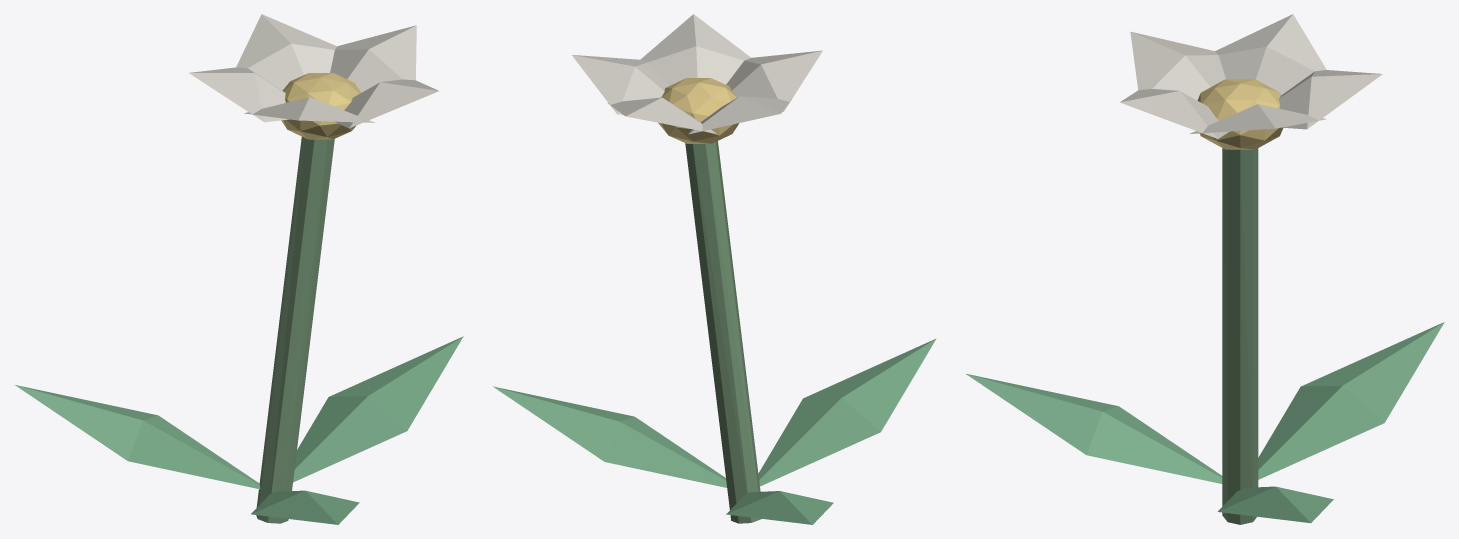
File: orchid_white.glb
3 views of the same model, side by side, from view 1: azimuth 30°, elevation 25°; view 2: azimuth 150°, elevation 25°; view 3: azimuth 270°, elevation 25° (orthographic). The views are drawn at different scales.
Parts seen in each view (by area): view 1: orchid_stem, orchid_leaf_0, orchid_leaf_1, orchid_petal_1, orchid_petal_0, orchid_center, orchid_petal_2, orchid_leaf_2, orchid_petal_4, orchid_petal_3; view 2: orchid_stem, orchid_leaf_2, orchid_leaf_0, orchid_petal_4, orchid_petal_3, orchid_petal_0, orchid_center, orchid_leaf_1, orchid_petal_2, orchid_petal_1; view 3: orchid_stem, orchid_leaf_1, orchid_leaf_2, orchid_petal_2, orchid_petal_3, orchid_center, orchid_petal_1, orchid_leaf_0, orchid_petal_4, orchid_petal_0.
Boxes of the visible parts, box(x1,y1,x2,y2) form: orchid_stem: box(256, 137, 334, 523); orchid_leaf_0: box(293, 336, 463, 482); orchid_leaf_1: box(15, 385, 260, 489); orchid_petal_1: box(236, 14, 336, 90); orchid_petal_0: box(330, 25, 416, 92); orchid_center: box(281, 73, 360, 139); orchid_petal_2: box(189, 67, 288, 122); orchid_leaf_2: box(251, 490, 359, 524); orchid_petal_4: box(334, 79, 438, 128); orchid_petal_3: box(244, 97, 374, 122); orchid_stem: box(685, 141, 761, 523); orchid_leaf_2: box(758, 338, 936, 486); orchid_leaf_0: box(493, 386, 726, 487); orchid_petal_4: box(640, 14, 751, 85); orchid_petal_3: box(726, 50, 822, 111); orchid_petal_0: box(571, 54, 668, 114); orchid_center: box(658, 78, 739, 143); orchid_leaf_1: box(726, 491, 833, 524); orchid_petal_2: box(688, 96, 791, 134); orchid_petal_1: box(607, 97, 716, 133); orchid_stem: box(1222, 148, 1258, 524); orchid_leaf_1: box(1258, 322, 1444, 479); orchid_leaf_2: box(966, 374, 1222, 483); orchid_petal_2: box(1215, 14, 1326, 95); orchid_petal_3: box(1130, 31, 1225, 100); orchid_center: box(1197, 79, 1283, 149); orchid_petal_1: box(1278, 70, 1382, 129); orchid_leaf_0: box(1218, 486, 1333, 523); orchid_petal_4: box(1120, 89, 1228, 138); orchid_petal_0: box(1190, 104, 1326, 133).
Size of the model in its own units: 0.6337 by 0.6931 by 0.6377.
